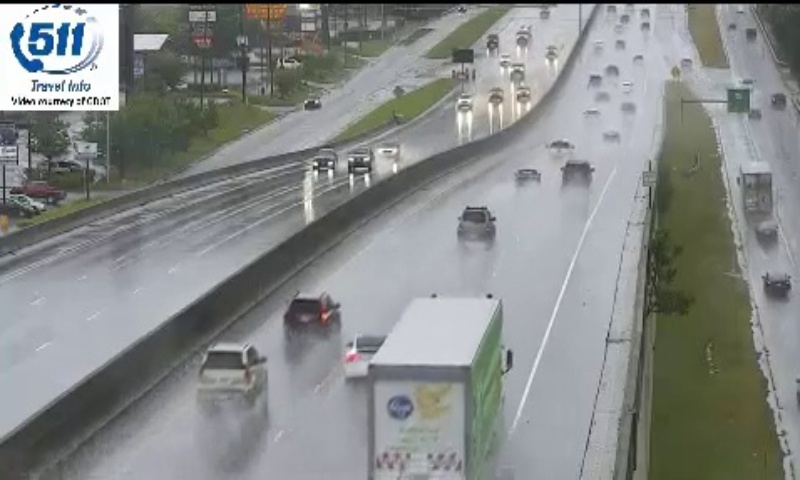car: (197, 346, 267, 401), (284, 293, 339, 339), (346, 337, 389, 377), (458, 205, 495, 240), (561, 160, 593, 190), (515, 169, 540, 190)
small-truck: (366, 297, 500, 480)
